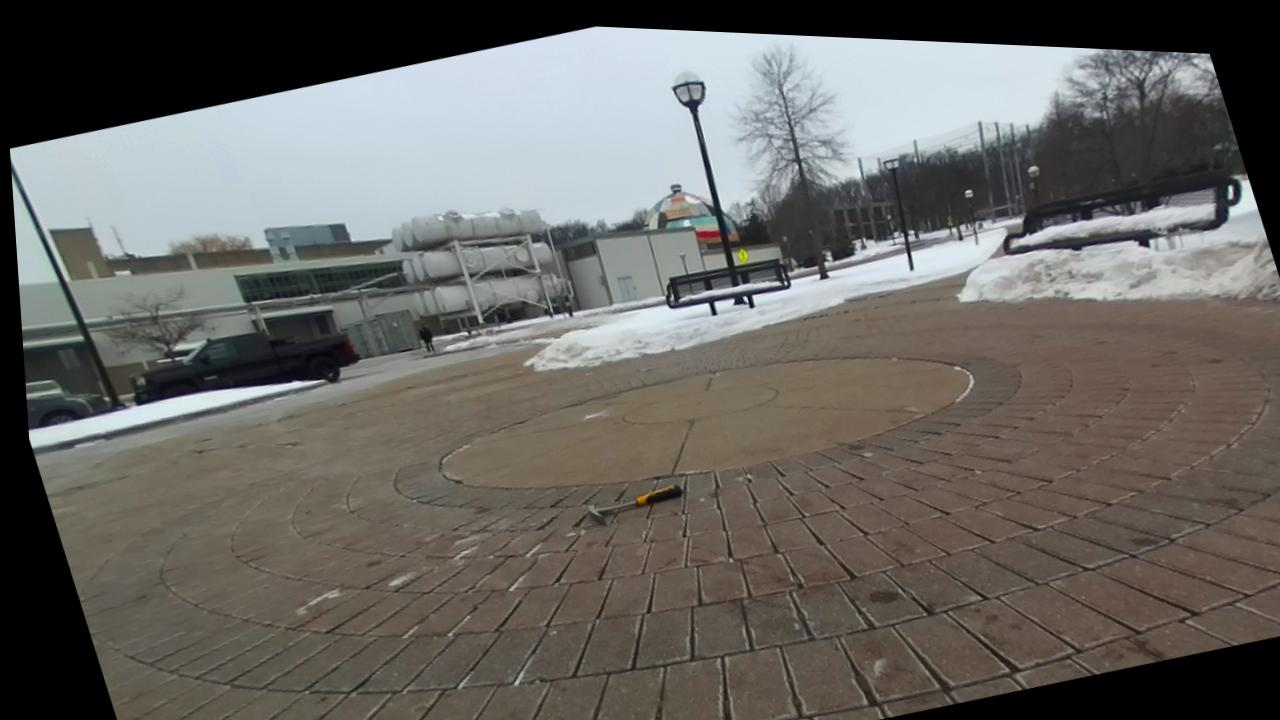pick: (585, 484, 683, 525)
